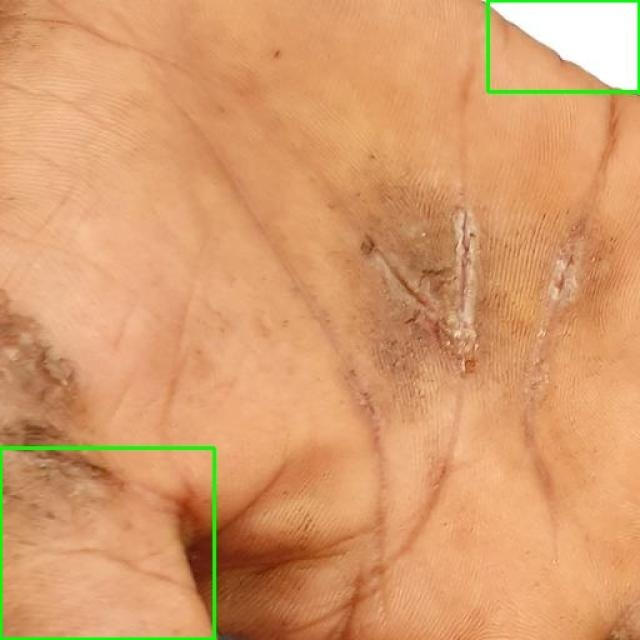Contact Dermatitis: (0, 448, 214, 639), (488, 0, 639, 91)
